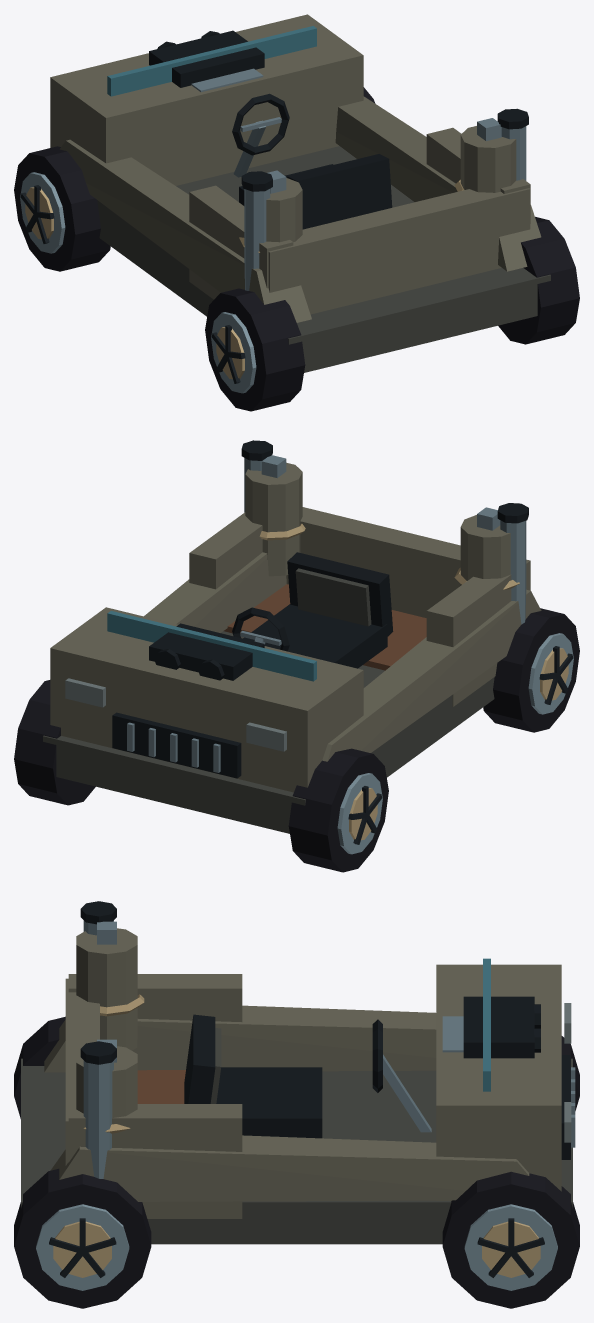
The model's file is kart.glb.
The picture shows the model from 3 angles, top to bottom: view 1: azimuth 30°, elevation 25°; view 2: azimuth 150°, elevation 25°; view 3: azimuth 270°, elevation 25°; orthographic projection. The views are drawn at different scales.
Visible parts, largest first — view 1: identity-truck-truck-utility-body, wheel-rear-left, wheel-front-left, identity-truck-driver-cockpit, identity-truck-motif-tanks, wheel-rear-right, identity-truck-motif-blower, identity-truck-motif-exhaust; view 2: identity-truck-truck-utility-body, identity-truck-driver-cockpit, wheel-front-left, identity-truck-motif-tanks, wheel-rear-left, wheel-front-right, identity-truck-motif-blower, identity-truck-motif-exhaust; view 3: identity-truck-truck-utility-body, wheel-front-right, wheel-rear-right, identity-truck-driver-cockpit, identity-truck-motif-tanks, identity-truck-motif-blower, identity-truck-motif-exhaust, wheel-rear-left.
Part boxes in pixels (x1,y1,x2,y2): identity-truck-truck-utility-body: (50,14,550,372); wheel-rear-left: (205,288,305,411); wheel-front-left: (14,146,110,271); identity-truck-driver-cockpit: (232,93,392,229); identity-truck-motif-tanks: (239,118,516,252); wheel-rear-right: (498,216,579,344); identity-truck-motif-blower: (149,30,264,92); identity-truck-motif-exhaust: (241,108,528,290); identity-truck-truck-utility-body: (43,507,541,833); identity-truck-driver-cockpit: (232,552,393,668); wheel-front-left: (288,748,388,872); identity-truck-motif-tanks: (245,455,519,589); wheel-rear-left: (483,608,579,732); wheel-front-right: (14,680,95,805); identity-truck-motif-blower: (149,623,264,680); identity-truck-motif-exhaust: (241,440,528,624); identity-truck-truck-utility-body: (21,958,575,1244); wheel-front-right: (442,1171,579,1308); wheel-rear-right: (14,1168,151,1308); identity-truck-driver-cockpit: (184,1014,431,1138); identity-truck-motif-tanks: (76,921,144,1133); identity-truck-motif-blower: (442,996,540,1058); identity-truck-motif-exhaust: (80,901,116,1178); wheel-rear-left: (14,1016,65,1118).
Size of the model in its own units: 2.13 by 1.33 by 2.8.
